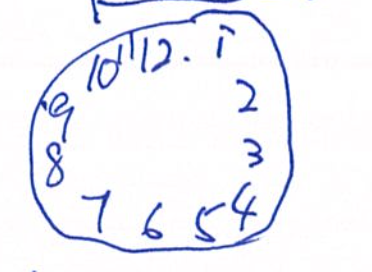1: (215, 32, 226, 60)
10: (87, 53, 121, 94)
11: (114, 30, 136, 63)
12: (139, 34, 175, 74)
2: (233, 76, 260, 115)
3: (240, 137, 265, 170)
4: (230, 180, 259, 232)
5: (190, 201, 227, 243)
6: (140, 201, 165, 240)
7: (81, 188, 111, 233)
8: (43, 140, 66, 189)
9: (46, 91, 75, 143)
contour: (27, 7, 297, 255)
